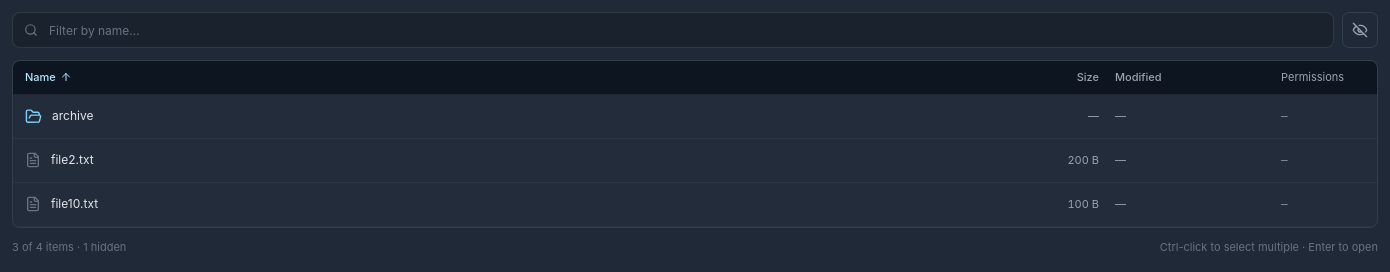
Test: File listing interactions › toggles Ctrl/Command selections without focus clearing the previously selected files
This screenshot has width=1390, height=272.
Later steps or results of the test are not shown.
Click the button "file2.txt 200 B — —". click: (72, 160)
box: [13,138,1377,182]
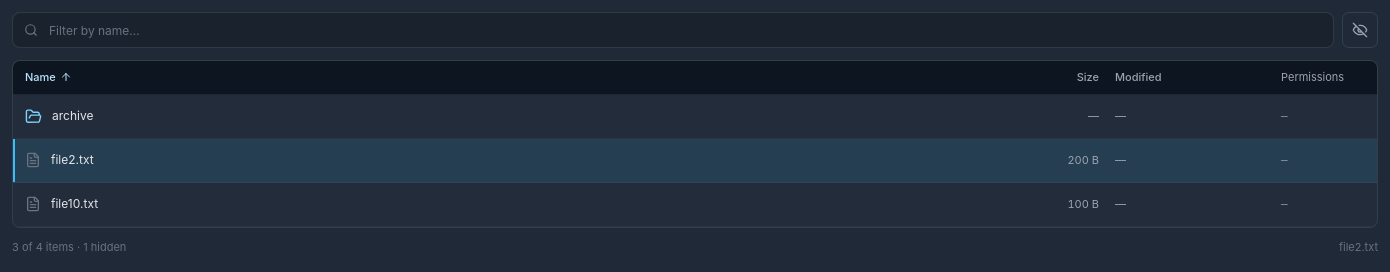
Click the button "file10.txt 100 B — —". click: (75, 204)
box: [13,182,1377,226]
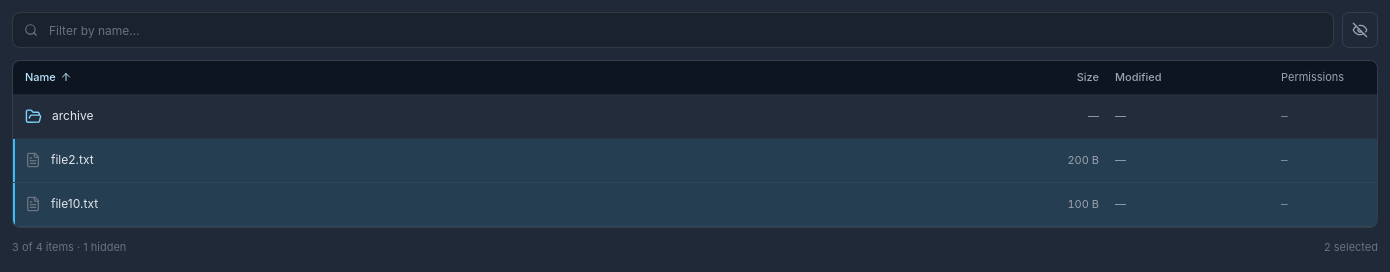
Check: the text "2 selected" is shown, box [1324,239,1378,256]
